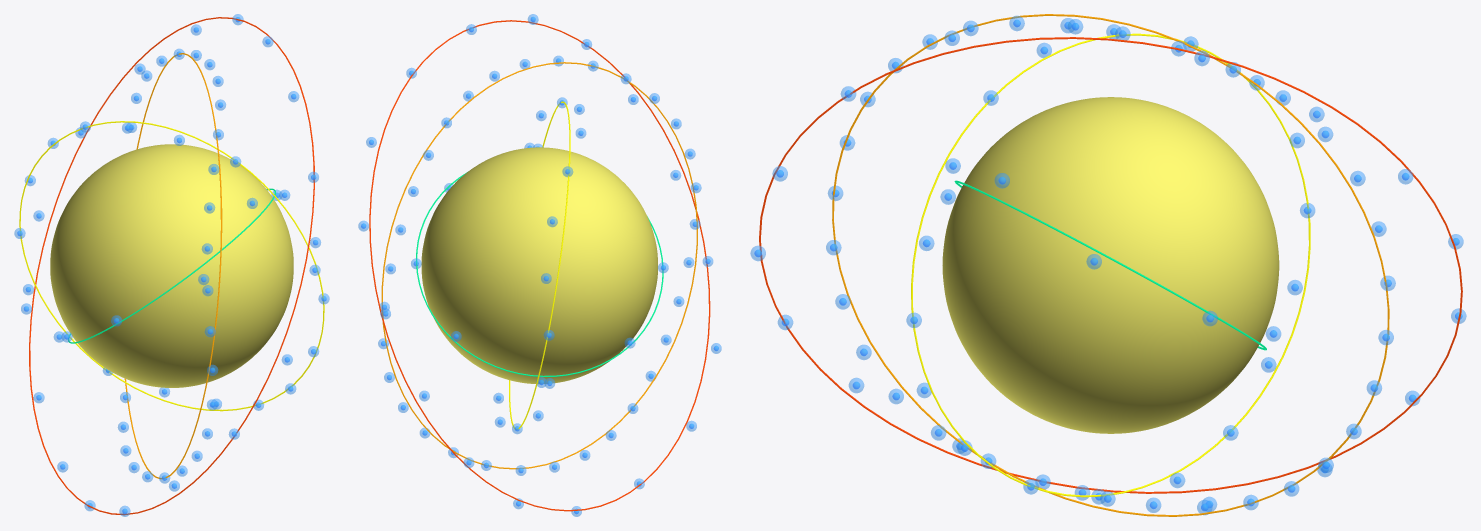
3 views of the same model, side by side, from view 1: azimuth 30°, elevation 25°; view 2: azimuth 150°, elevation 25°; view 3: azimuth 270°, elevation 25° (orthographic). The views are drawn at different scales.
Visible parts, largest first — view 1: Ir, object 126, object 24, object 61, object 7; view 2: Ir, object 126, object 61, object 7, object 24; view 3: Ir, object 126, object 61, object 24, object 7.
Part boxes in pixels (box(x1,y1,x2,y2)): Ir: box(50, 144, 293, 387); object 126: box(29, 17, 314, 515); object 24: box(19, 121, 324, 411); object 61: box(124, 53, 222, 479); object 7: box(68, 188, 275, 343); Ir: box(421, 147, 657, 384); object 126: box(369, 20, 710, 511); object 61: box(381, 62, 697, 469); object 7: box(416, 172, 663, 376); object 24: box(509, 101, 570, 429); Ir: box(942, 97, 1279, 433); object 126: box(759, 37, 1462, 493); object 61: box(832, 14, 1389, 516); object 24: box(911, 33, 1310, 497); object 7: box(954, 180, 1266, 350).
Size of the model in its own units: 3.45 by 6.74 by 7.31.
